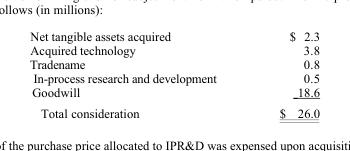table: (29, 29, 319, 120)
table column: (29, 29, 247, 120), (247, 29, 319, 120)
table row: (29, 84, 319, 102), (29, 102, 319, 120), (29, 29, 319, 43), (29, 43, 319, 57), (29, 70, 319, 84), (29, 57, 319, 70)
